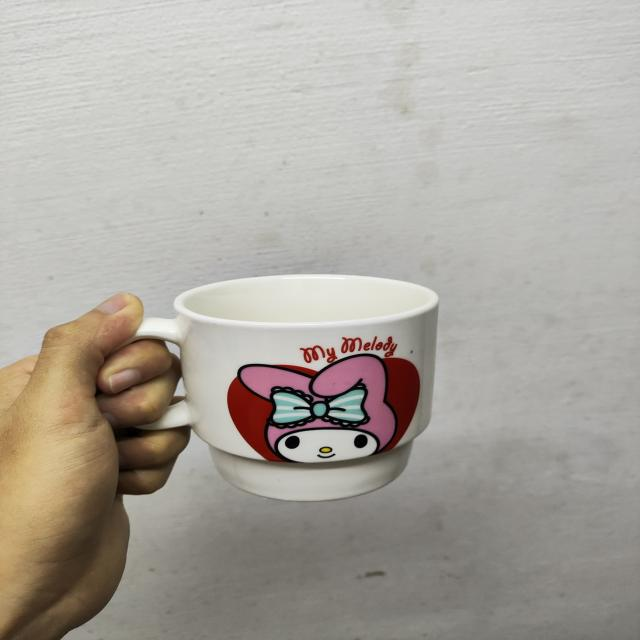cup: (107, 252, 468, 515)
